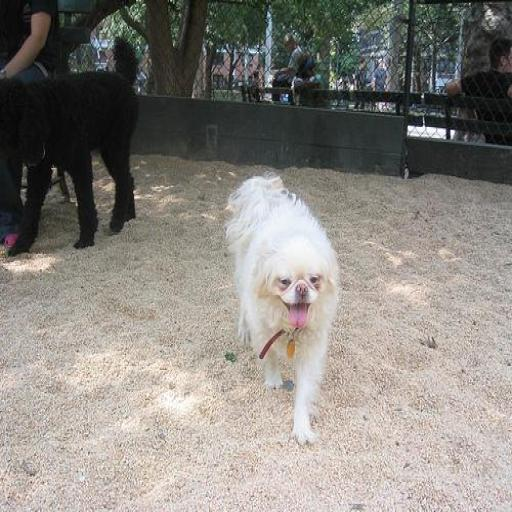dog_face: (252, 222, 340, 338)
